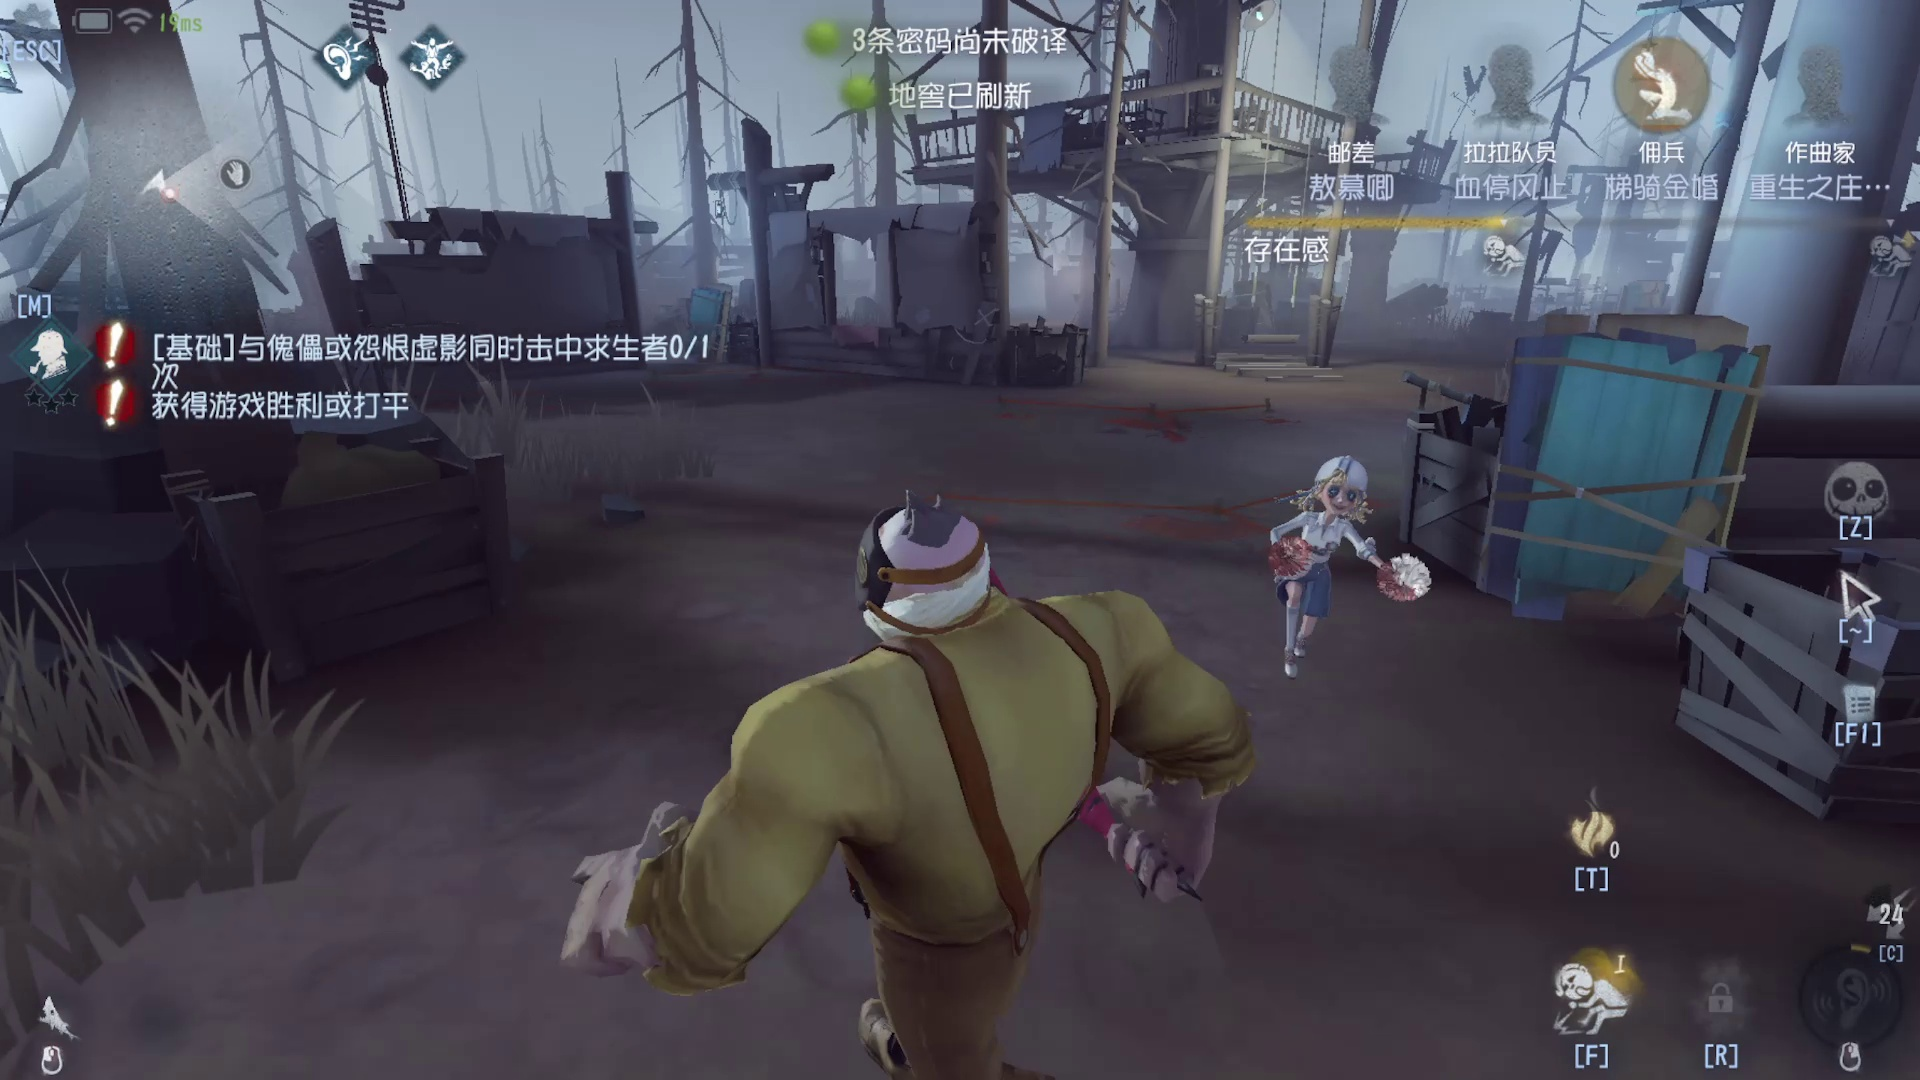木板: (1472, 320, 1775, 653), (678, 272, 758, 382)
求生者: (1276, 452, 1396, 680)
脚印: (985, 356, 1305, 473)
